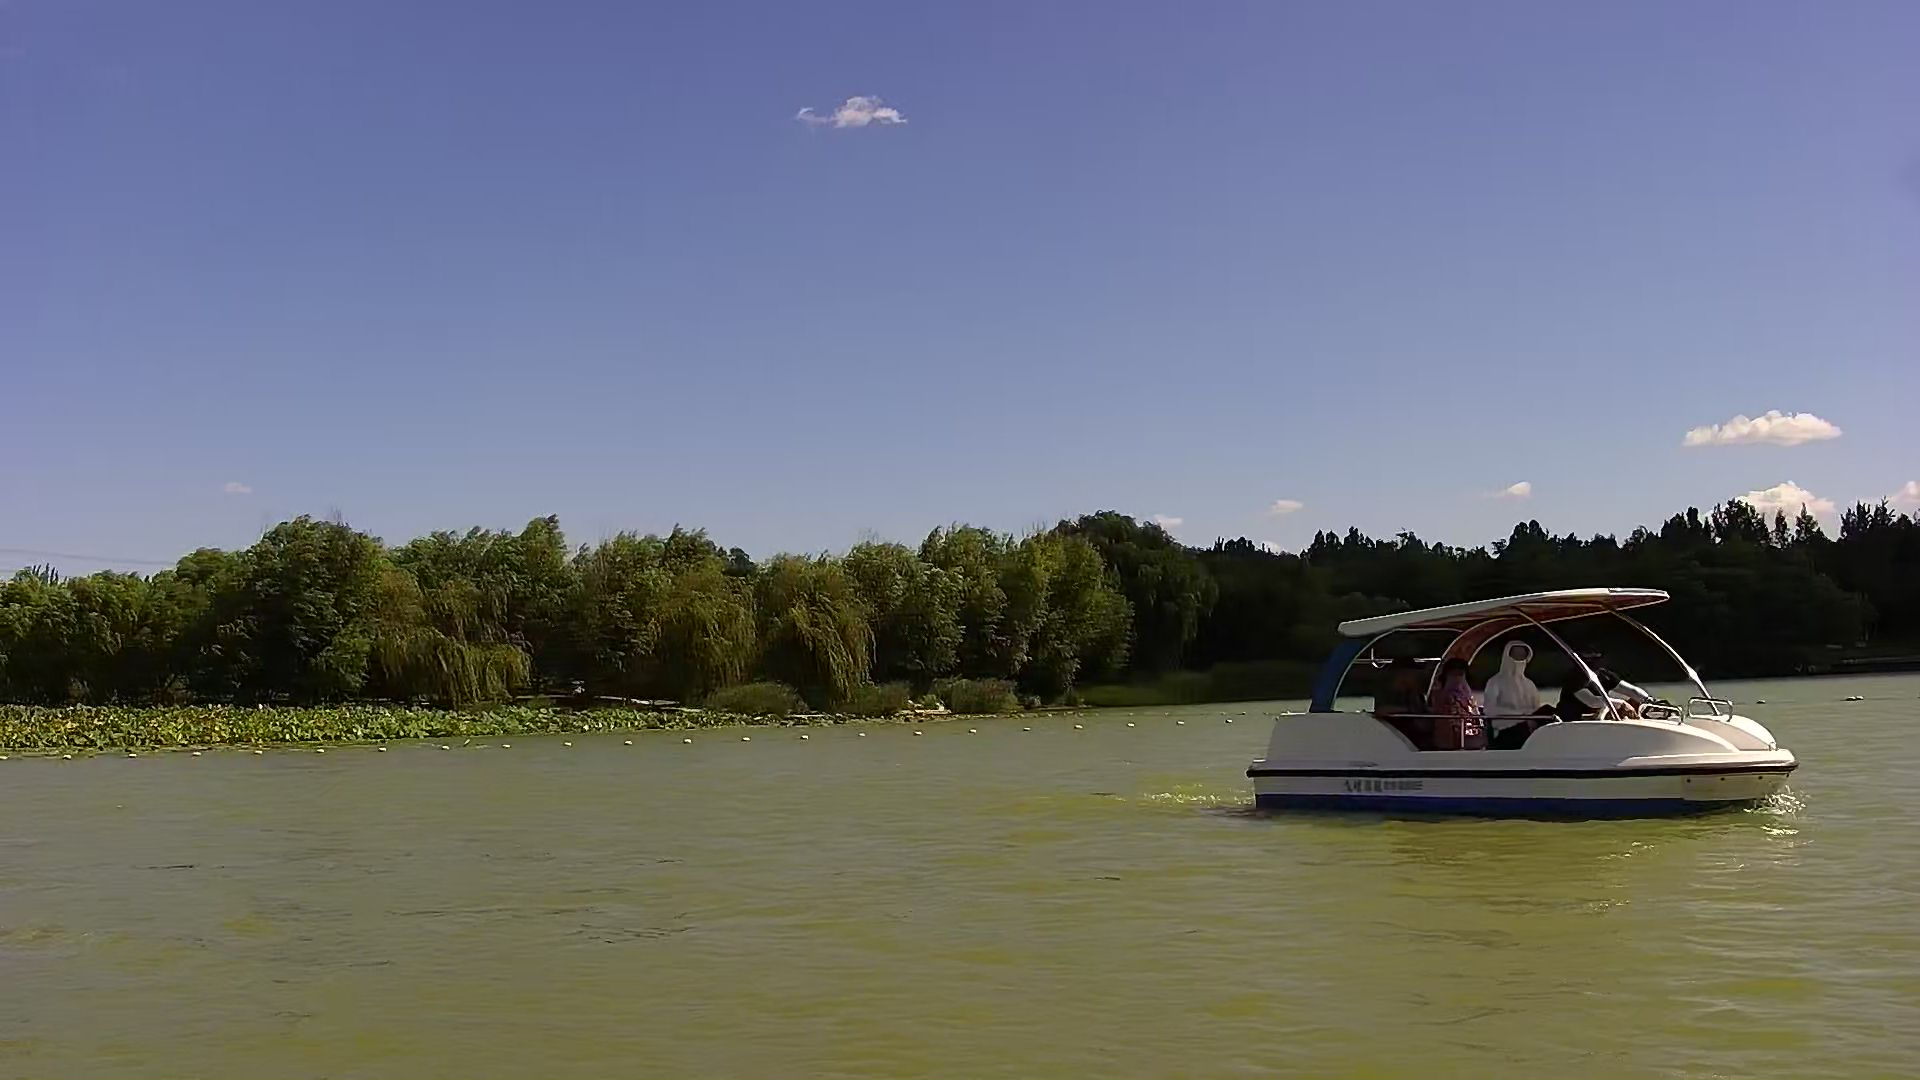boat: (1230, 550, 1808, 811)
